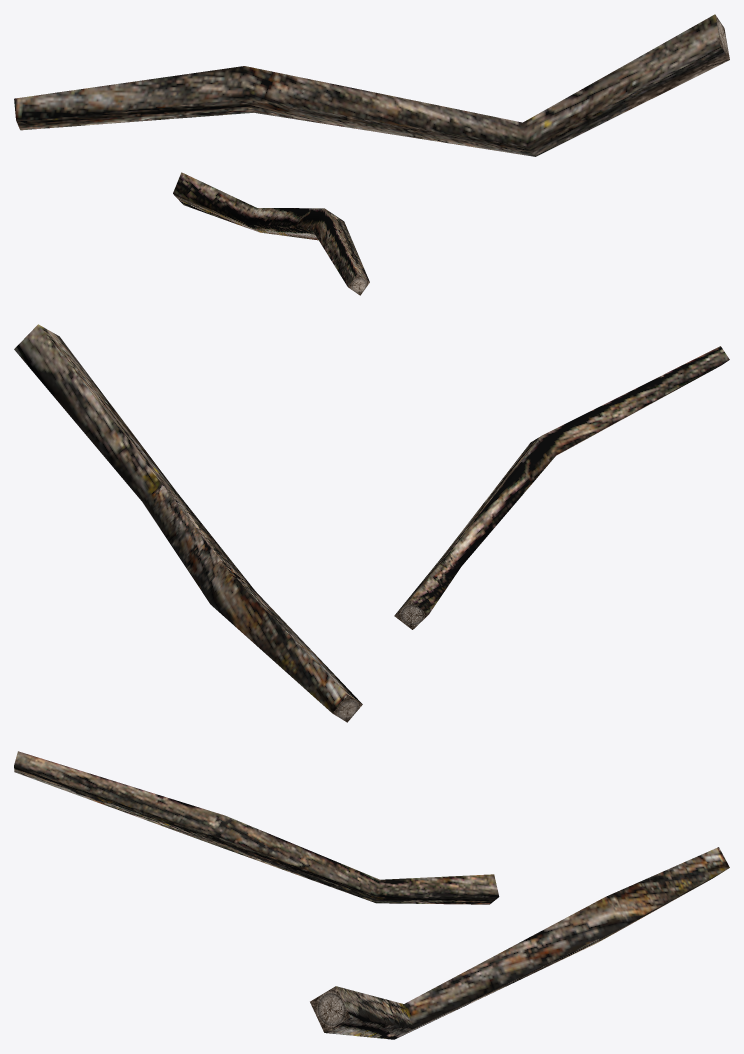
Rendered from Branch2.fbx.
3 views of the same model, one above another, from view 1: azimuth 30°, elevation 25°; view 2: azimuth 150°, elevation 25°; view 3: azimuth 270°, elevation 25° (orthographic). The views are drawn at different scales.
Visible parts, largest first — view 1: polySurface7; view 2: polySurface7; view 3: polySurface7.
Part boxes in pixels (x1,y1,x2,y2): polySurface7: (14,14,729,295); polySurface7: (14,324,729,722); polySurface7: (14,751,729,1039).
Size of the model in its own units: 0.5532 by 0.1335 by 0.6417.
